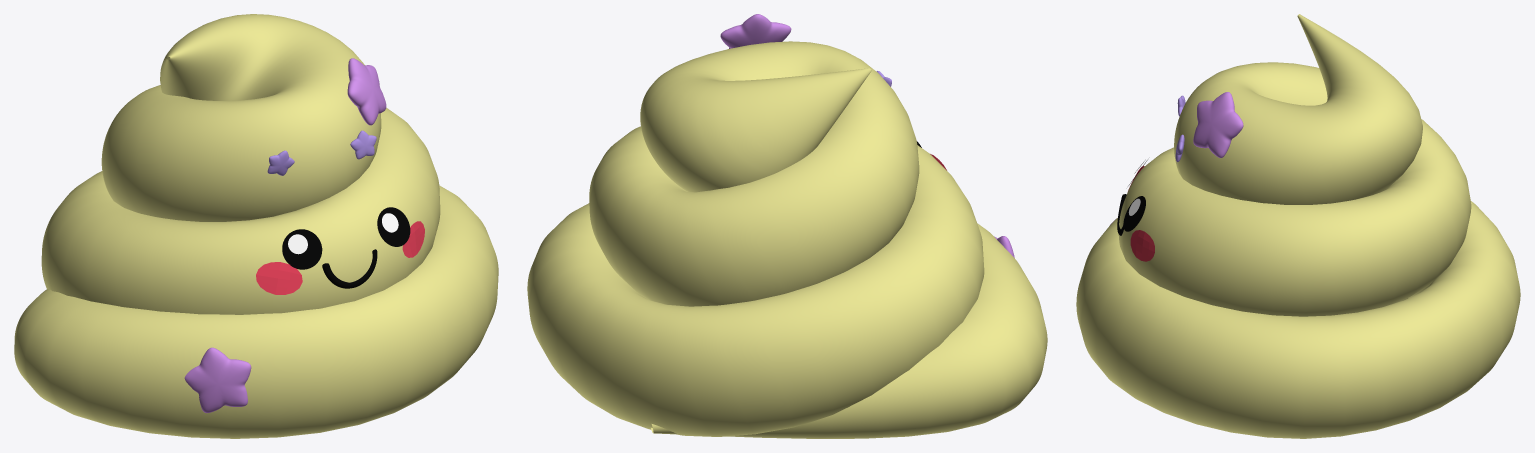
The model's file is poopystars2.fbx.
The picture shows the model from 3 angles, left to right: view 1: azimuth 30°, elevation 25°; view 2: azimuth 150°, elevation 25°; view 3: azimuth 270°, elevation 25°; orthographic projection. The views are drawn at different scales.
Parts seen in each view (by area): view 1: Spiral.003, Circle.020, Circle.014, Plane.009, Circle.019, Circle.018, Torus.005, Plane.010, Circle.015; view 2: Spiral.003, Circle.014; view 3: Spiral.003, Circle.014, Plane.010.
Part boxes in pixels (x1,y1,x2,y2): Spiral.003: (14,14,498,438); Circle.020: (184,347,251,413); Circle.014: (347,58,386,125); Plane.009: (256,262,302,294); Circle.019: (282,229,322,269); Circle.018: (377,207,410,246); Torus.005: (322,249,377,288); Plane.010: (402,221,424,257); Circle.015: (350,130,376,159); Spiral.003: (527,41,1047,438); Circle.014: (720,14,791,48); Spiral.003: (1076,14,1520,438); Circle.014: (1193,92,1243,157); Plane.010: (1130,230,1154,261).
Bounding box in the file's own units: 387 × 260 × 342.
